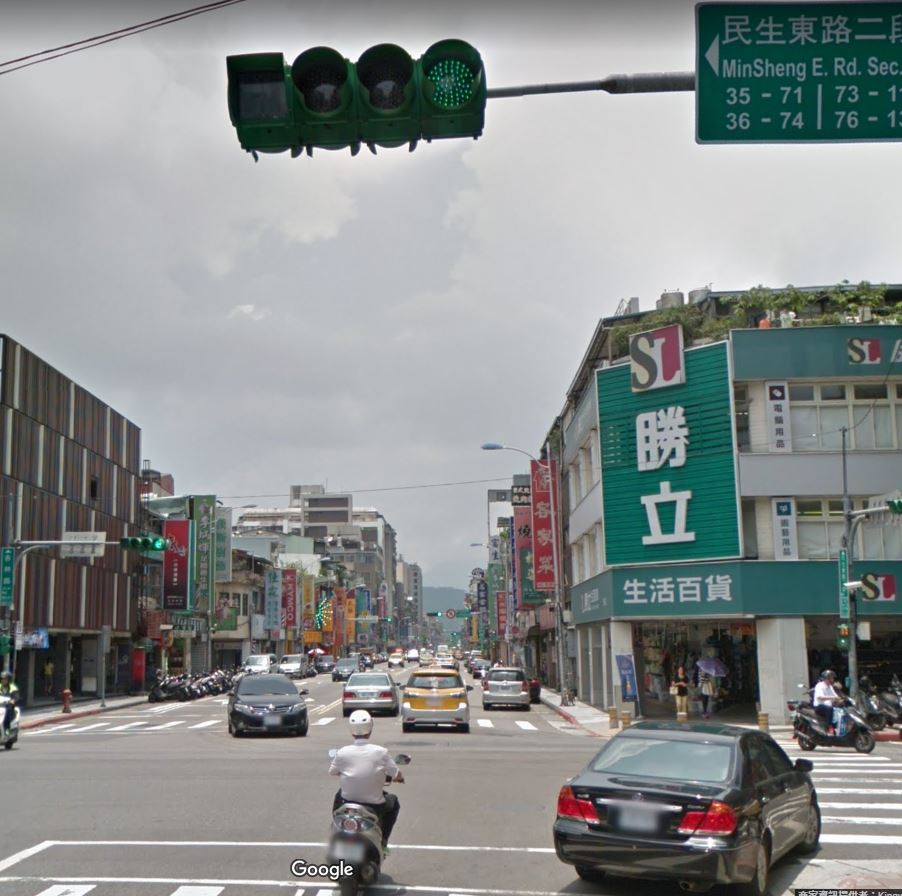Traffic_light_green: (225, 29, 489, 162), (123, 530, 173, 554)
car: (548, 708, 832, 894), (227, 666, 312, 743), (399, 665, 476, 736), (341, 666, 400, 716), (481, 662, 537, 708)
motorcycle: (323, 747, 410, 888), (790, 691, 877, 756)
